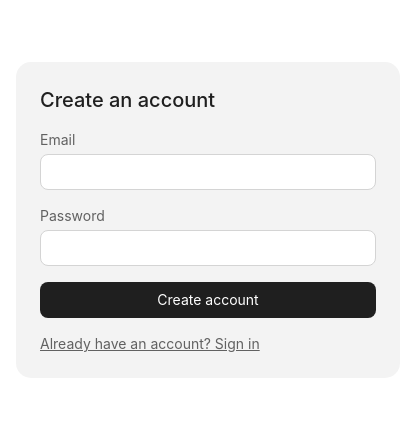
Test: AuthPage › opens the sign-in page with a note after the account was created
Step 1. Type "a@b.de" into the field labelled "Email" → (208, 172), box [40, 154, 376, 190]
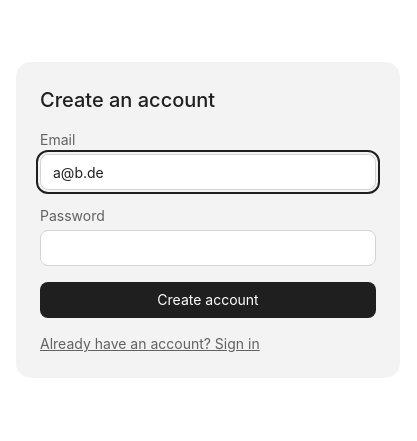
Step 2. Type "secret-password" into the password field labelled "Password" → (208, 248), box [40, 230, 376, 266]
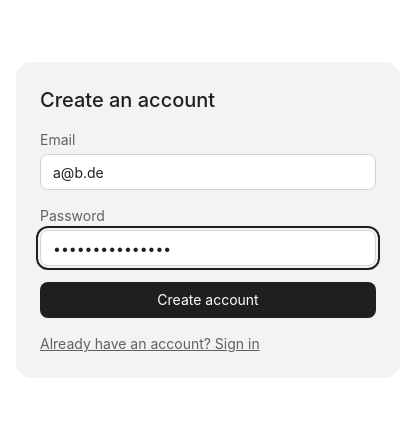
Step 3. Click the button "Create account" → (208, 300), box [40, 282, 376, 318]
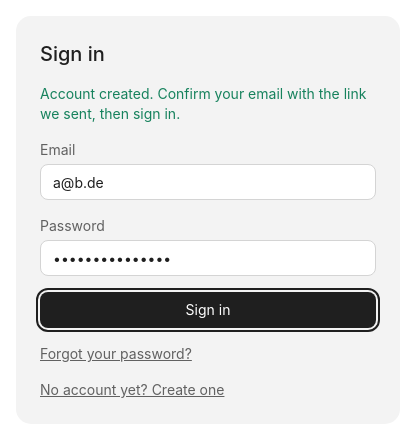
Result: the heading "Sign in" is shown at [40, 42, 105, 66]
Result: the text "Account created" is shown at [40, 85, 366, 122]
